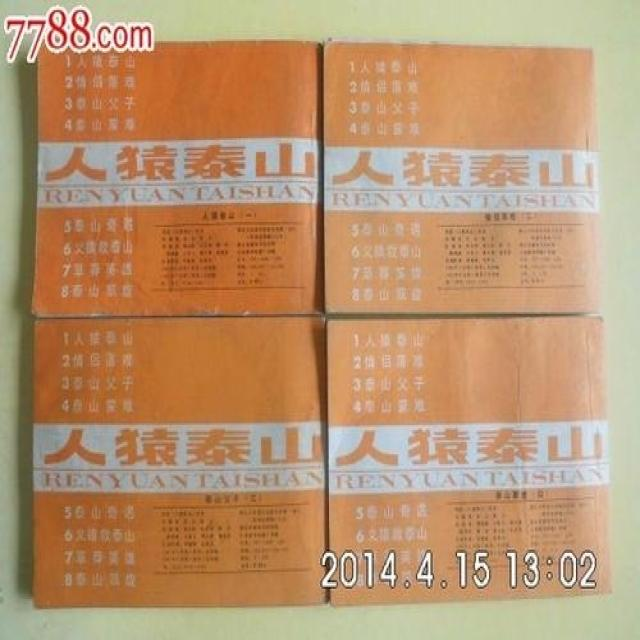box: (31, 317, 326, 609), (326, 317, 612, 606), (31, 39, 324, 316), (323, 41, 603, 316)
